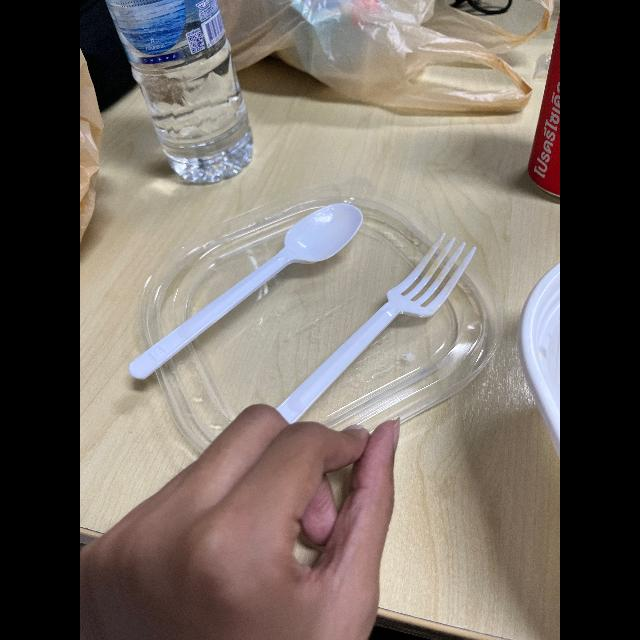plastic_cultery: (122, 192, 370, 400), (262, 232, 478, 438)
